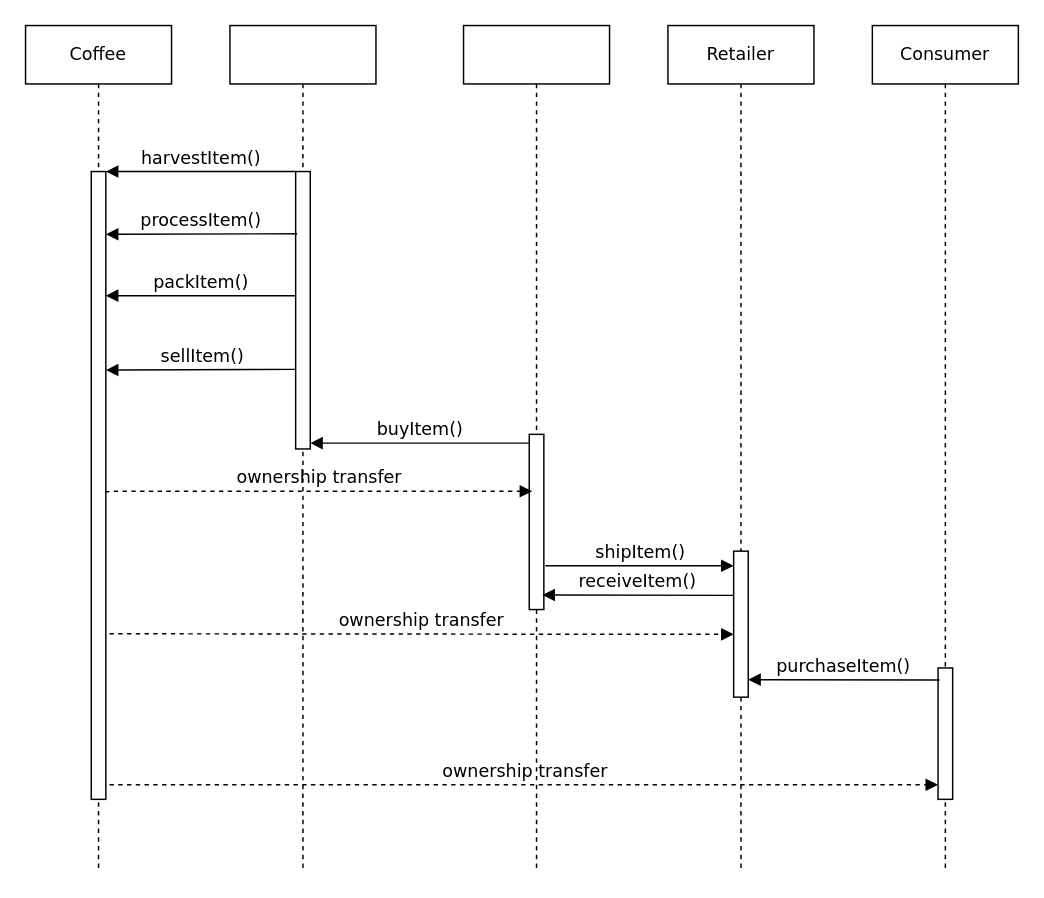
Some shapes in this 1044 by 898 pixel diagram are drawn without their labels. The centre of each missing label's shape, as x and y in pixels:
"Distributor" belongs at (536,448).
"Farmer" belongs at (302,448).
